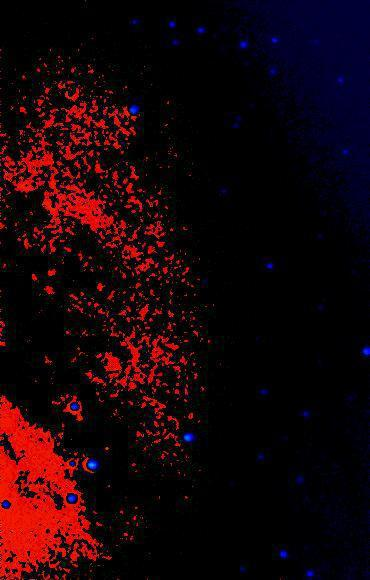star: (89, 436, 119, 466)
